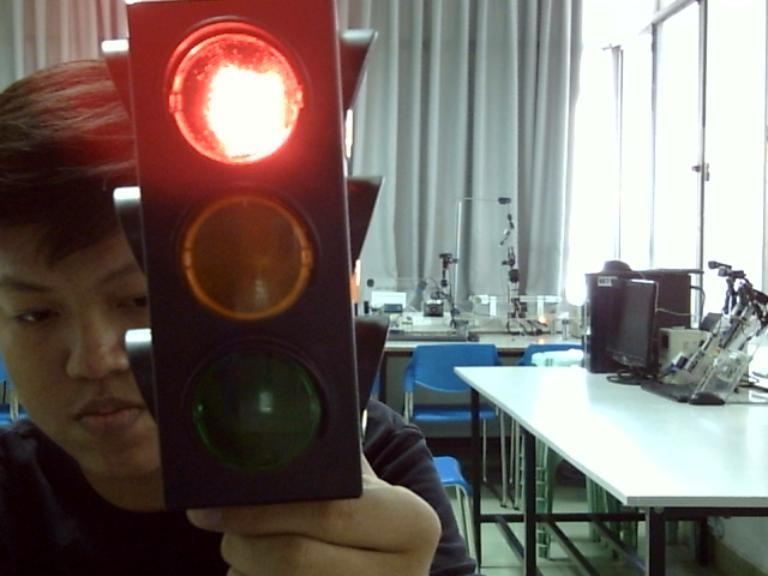red: (146, 0, 334, 179)
